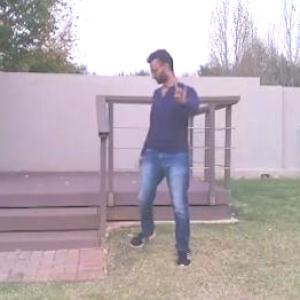takeoff-hand: (170, 72, 194, 108)
